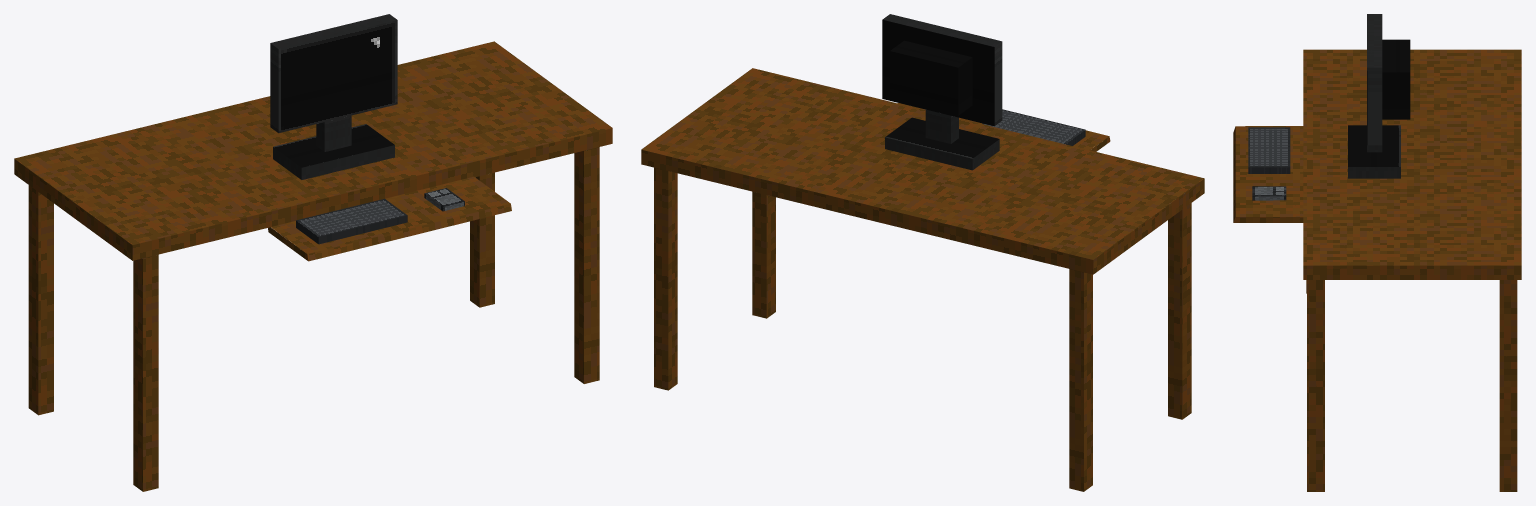
File: BLOCKYGON_OFFICE  DESK.fbx
The picture shows the model from 3 angles, left to right: view 1: azimuth 30°, elevation 25°; view 2: azimuth 150°, elevation 25°; view 3: azimuth 270°, elevation 25°; orthographic projection. The views are drawn at different scales.
Parts seen in each view (by area): view 1: BLOCKYGON_OFFICE__DESK; view 2: BLOCKYGON_OFFICE__DESK; view 3: BLOCKYGON_OFFICE__DESK.
Part boxes in pixels (x1,y1,x2,y2): BLOCKYGON_OFFICE__DESK: (14, 14, 612, 491); BLOCKYGON_OFFICE__DESK: (641, 14, 1204, 491); BLOCKYGON_OFFICE__DESK: (1233, 14, 1521, 491).
Size of the model in its own units: 254 by 191 by 143.
